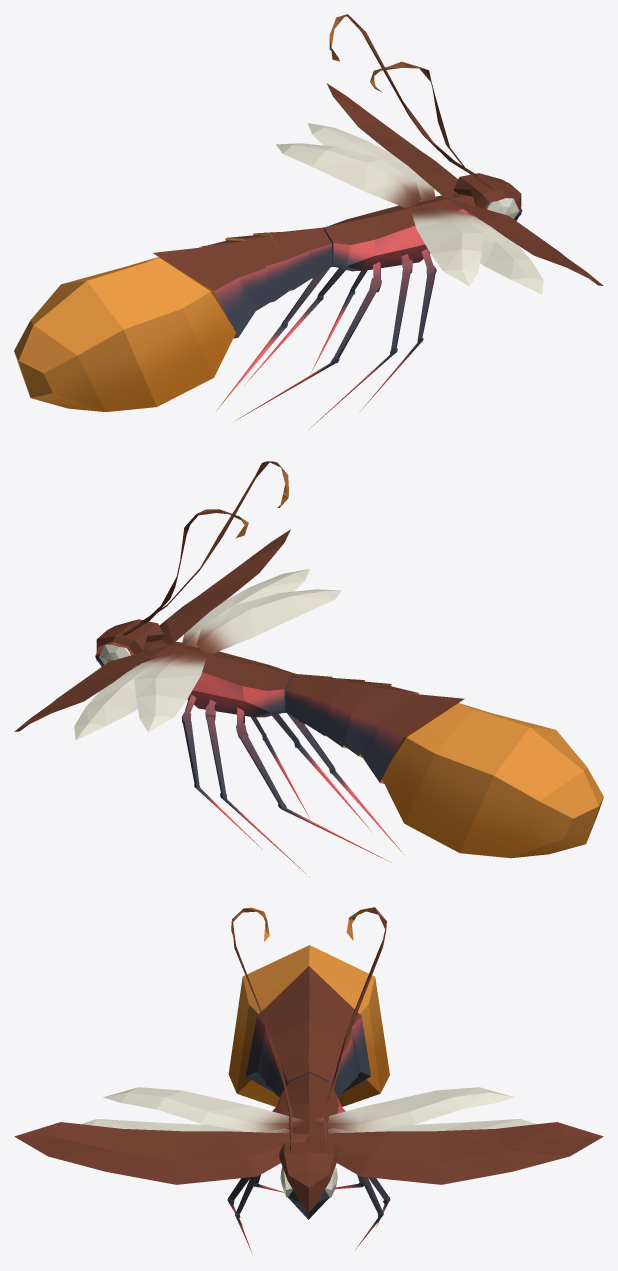
File: Sketchfab_2023_02_22_14_45_04.fbx
3 renders of one model, top to bottom at view 1: azimuth 30°, elevation 25°; view 2: azimuth 150°, elevation 25°; view 3: azimuth 270°, elevation 25°, orthographic. The views are drawn at different scales.
Visible parts, largest first — view 1: Firefly; view 2: Firefly; view 3: Firefly.
Boxes of the visible parts, <box> form: Firefly: <box>14,14,603,429</box>; Firefly: <box>14,461,603,876</box>; Firefly: <box>14,907,603,1254</box>.
Size of the model in its own units: 475 by 314 by 454.
1 material, 1 textured.
